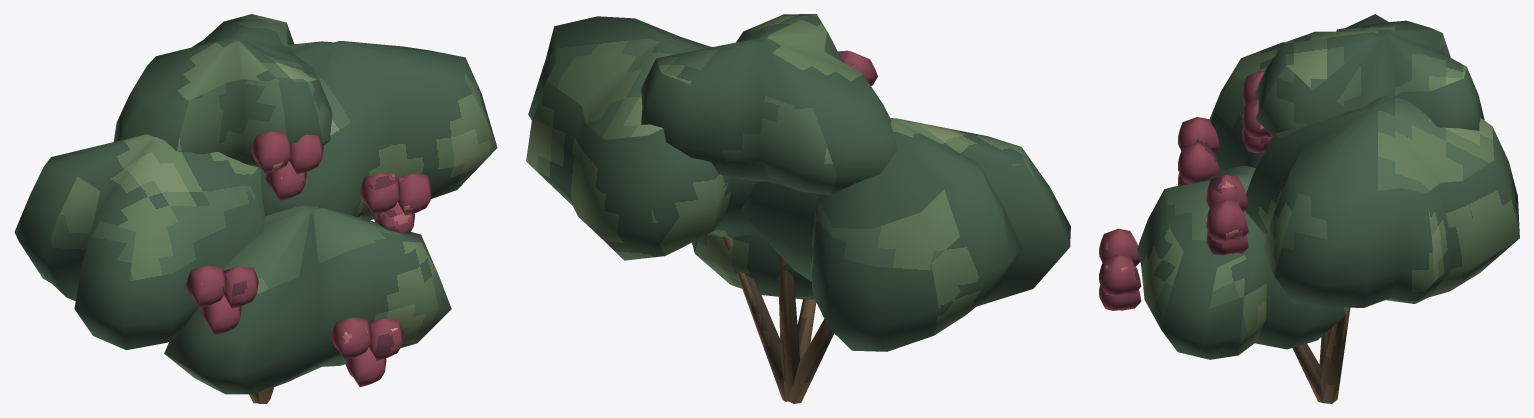
File: berry-bush-natural.glb
The picture shows the model from 3 angles, left to right: view 1: azimuth 30°, elevation 25°; view 2: azimuth 150°, elevation 25°; view 3: azimuth 270°, elevation 25°; orthographic projection. The views are drawn at different scales.
Parts seen in each view (by area): view 1: berry-bush-natural runtime mesh; view 2: berry-bush-natural runtime mesh; view 3: berry-bush-natural runtime mesh.
Part boxes in pixels (left/top/right/bottom): berry-bush-natural runtime mesh: left=14, top=14, right=497, bottom=403; berry-bush-natural runtime mesh: left=526, top=14, right=1070, bottom=403; berry-bush-natural runtime mesh: left=1099, top=14, right=1519, bottom=403.
Bounding box in the file's own units: 1.36 × 1 × 1.04.
3 materials, 3 textured.
